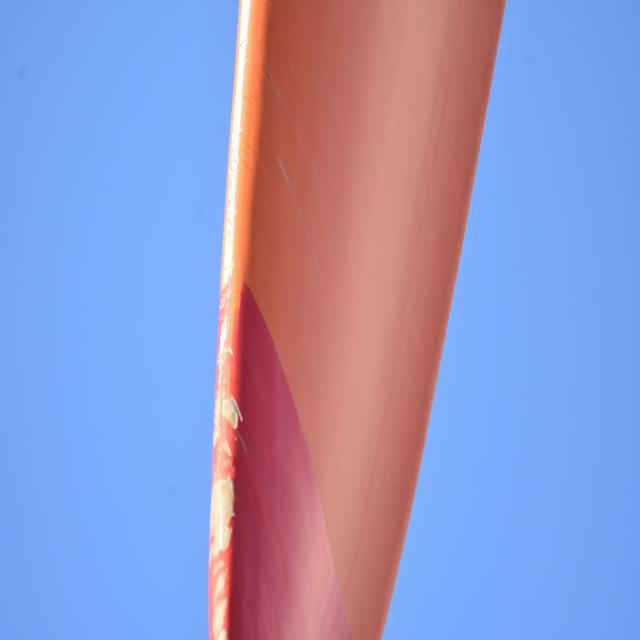Coating_defects: (220, 390, 255, 437)
EROSION: (214, 284, 243, 638)
